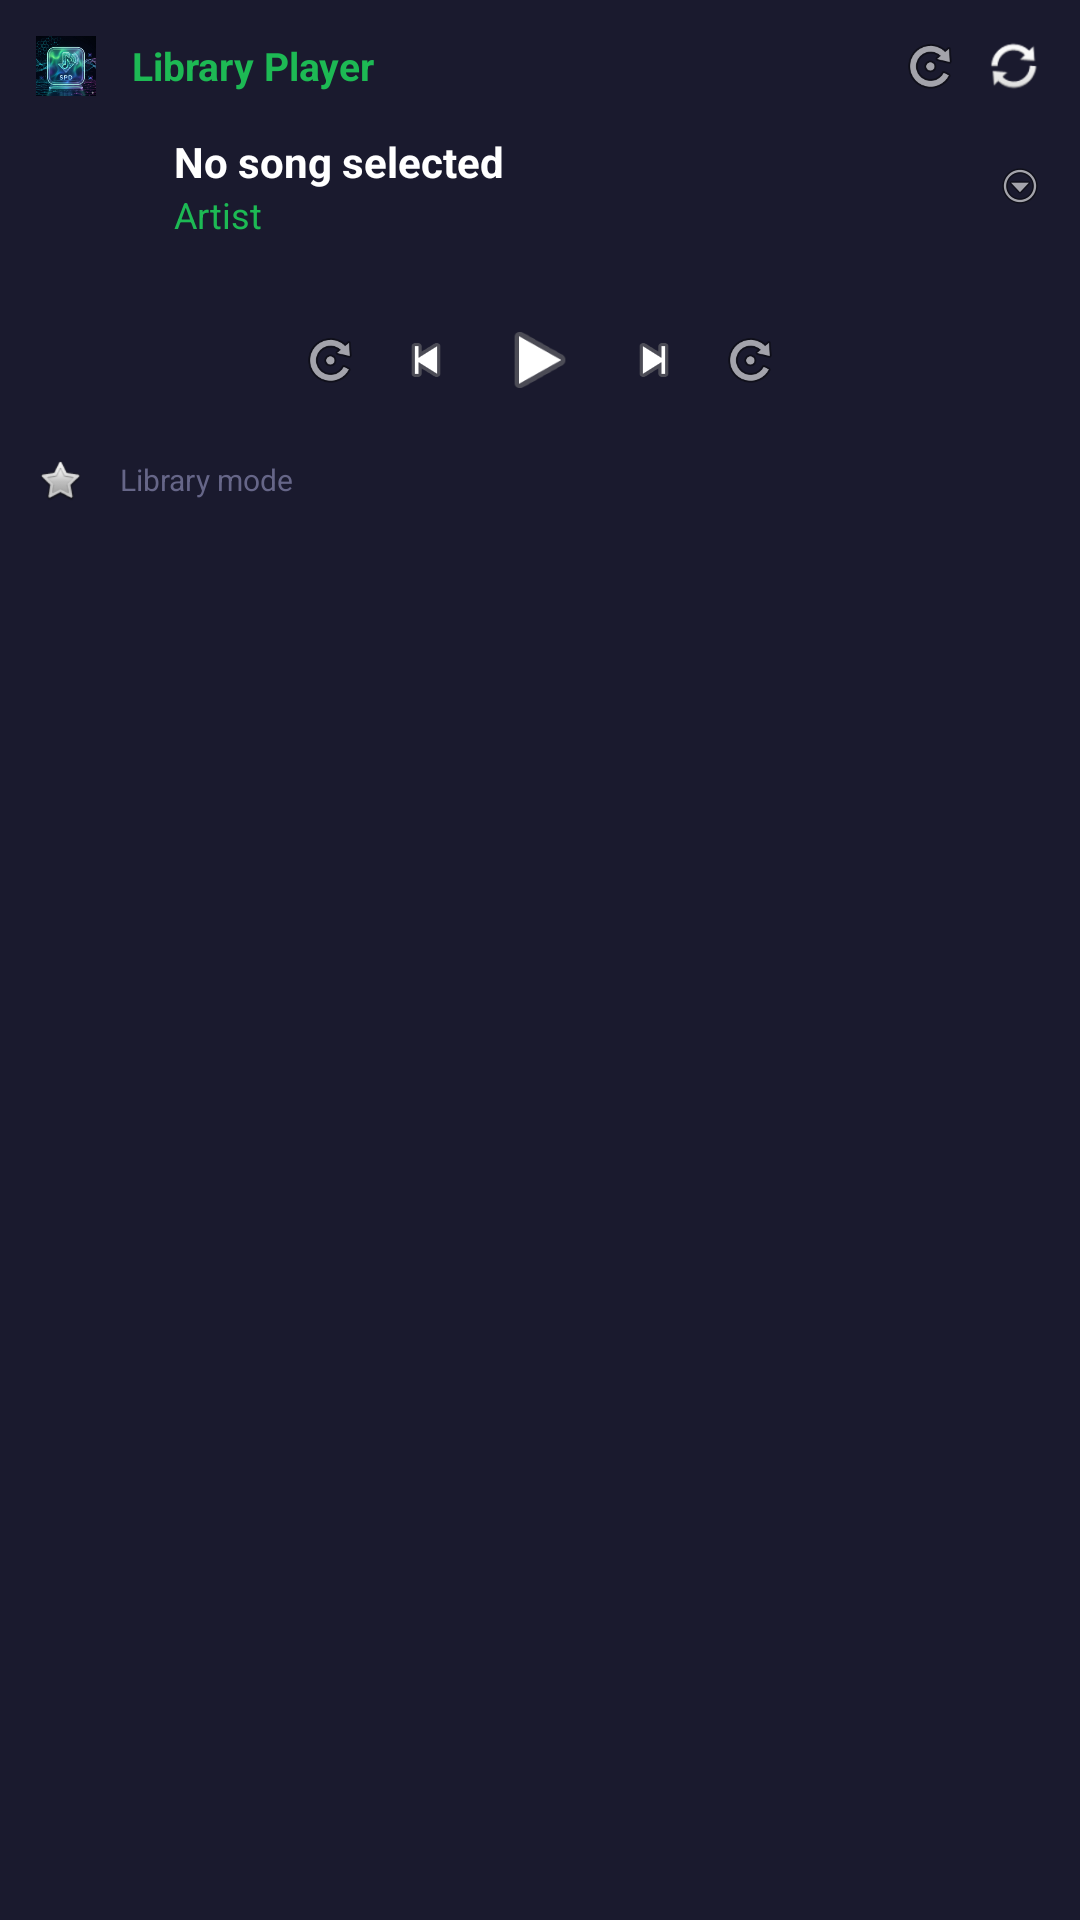

Locate icon controls on the screen. Image size 1080px×1920px, boxes as (x1, y1, x2, y2).
more: (1004, 170, 1036, 202)
next: (640, 343, 668, 377)
play: (515, 332, 565, 388)
popup sync: (991, 43, 1037, 89)
previous: (412, 343, 440, 377)
rotate: (910, 45, 950, 87), (310, 340, 350, 381), (730, 340, 770, 381)
star off: (41, 462, 80, 498)
